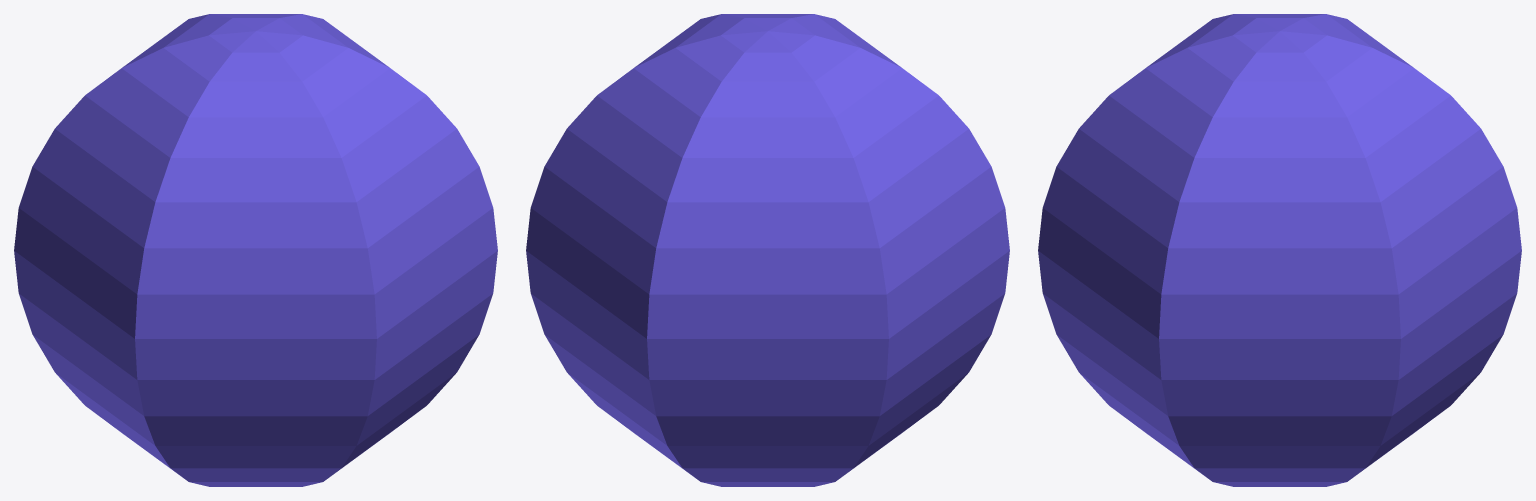
File: firefly temp.fbx
The picture shows the model from 3 angles, left to right: view 1: azimuth 30°, elevation 25°; view 2: azimuth 150°, elevation 25°; view 3: azimuth 270°, elevation 25°; orthographic projection.
Parts seen in each view (by area): view 1: Sphere; view 2: Sphere; view 3: Sphere.
Boxes of the visible parts, box(x1,y1,x2,y2) form: Sphere: box(14, 14, 497, 486); Sphere: box(526, 14, 1009, 486); Sphere: box(1038, 14, 1521, 486).
Size of the model in its own units: 173 by 200 by 200.
